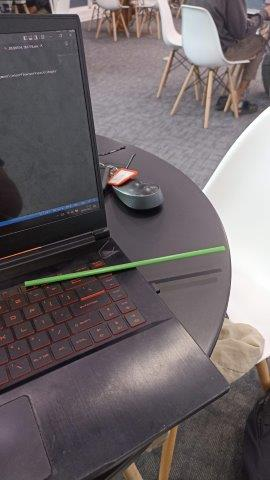sedotan: (25, 247, 225, 287)
